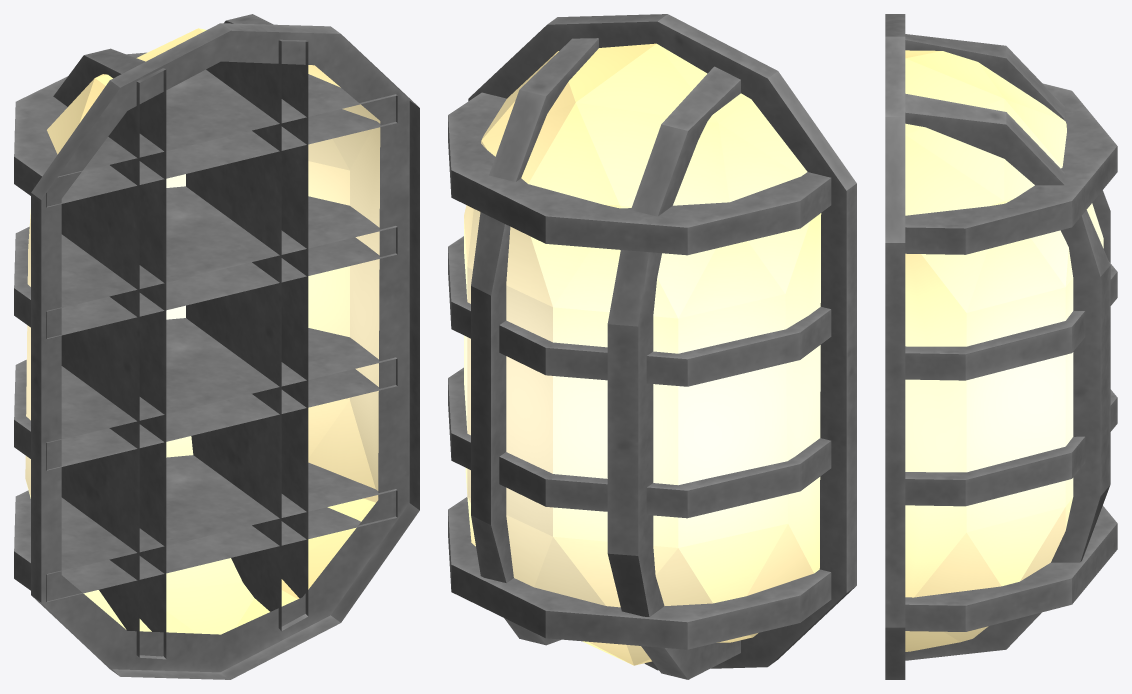
File: wall_light.glb
The picture shows the model from 3 angles, left to right: view 1: azimuth 30°, elevation 25°; view 2: azimuth 150°, elevation 25°; view 3: azimuth 270°, elevation 25°; orthographic projection. The views are drawn at different scales.
Parts seen in each view (by area): view 1: WallLightMetalCage, WallLightGlassCover; view 2: WallLightMetalCage, WallLightGlassCover; view 3: WallLightMetalCage, WallLightGlassCover.
Part boxes in pixels (left/top/right/bottom): WallLightMetalCage: left=14, top=14, right=419, bottom=679; WallLightGlassCover: left=25, top=28, right=380, bottom=634; WallLightMetalCage: left=448, top=14, right=856, bottom=679; WallLightGlassCover: left=464, top=43, right=821, bottom=665; WallLightMetalCage: left=885, top=14, right=1117, bottom=679; WallLightGlassCover: left=905, top=50, right=1103, bottom=651.
Size of the model in its own units: 211 by 345 by 117.
Materials: 2 (2 with a texture image).
